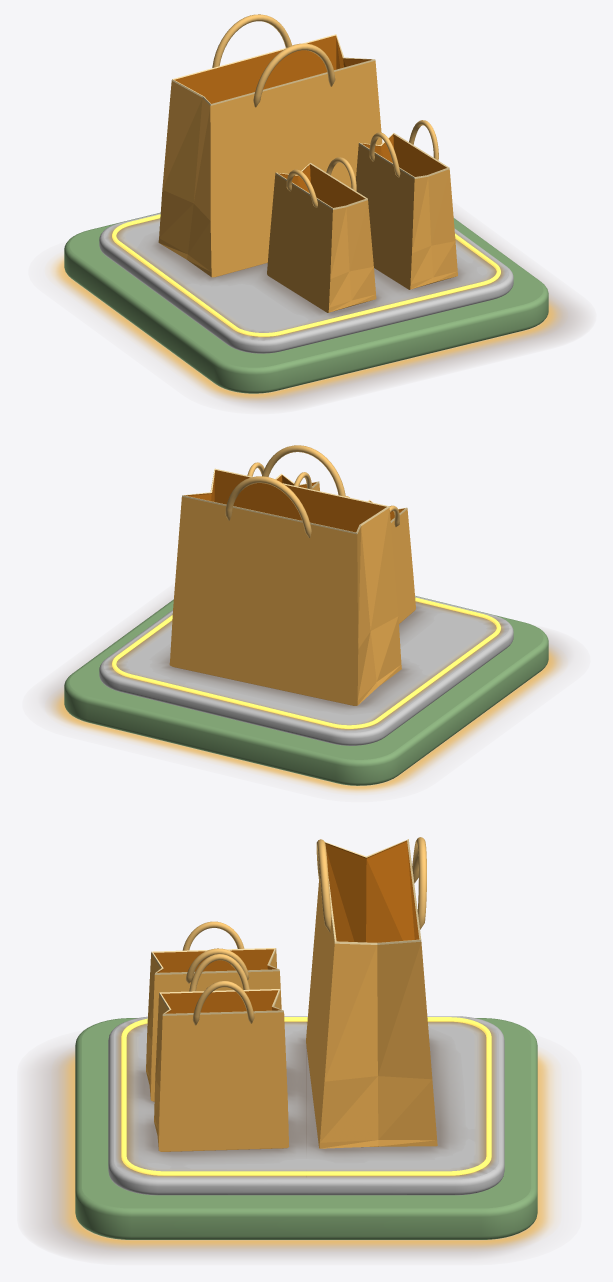
Rendered from bags.glb.
The picture shows the model from 3 angles, top to bottom: view 1: azimuth 30°, elevation 25°; view 2: azimuth 150°, elevation 25°; view 3: azimuth 270°, elevation 25°; orthographic projection. The views are drawn at different scales.
Parts seen in each view (by area): view 1: Bag_Large, Plinth_Outer, Plinth_Inner, Bag_Small, Bag_Medium, Fx_ContactShadow, Fx_FloorGlow, Fx_AmbientOcclusion, GlowRing, Bag_Large_Handles, Fx_RingHalo, Bag_Medium_Handles (+1 smaller); view 2: Bag_Large, Plinth_Outer, Plinth_Inner, Fx_FloorGlow, Fx_AmbientOcclusion, GlowRing, Bag_Small, Bag_Large_Handles, Fx_RingHalo, Fx_ContactShadow; view 3: Bag_Large, Plinth_Inner, Plinth_Outer, Bag_Medium, Fx_ContactShadow, Fx_AmbientOcclusion, Fx_FloorGlow, Bag_Small, GlowRing, Fx_RingHalo, Bag_Large_Handles, Bag_Medium_Handles (+1 smaller).
Part boxes in pixels (x1,y1,x2,y2): Bag_Large: [158, 34, 382, 277]; Plinth_Outer: [64, 212, 548, 393]; Plinth_Inner: [99, 213, 513, 353]; Bag_Small: [267, 163, 376, 312]; Bag_Medium: [356, 133, 457, 289]; Fx_ContactShadow: [74, 215, 585, 407]; Fx_FloorGlow: [52, 255, 560, 399]; Fx_AmbientOcclusion: [108, 218, 504, 338]; GlowRing: [112, 214, 500, 336]; Bag_Large_Handles: [212, 14, 335, 107]; Fx_RingHalo: [109, 218, 503, 337]; Bag_Medium_Handles: [369, 120, 438, 177]; Bag_Large: [169, 468, 401, 705]; Plinth_Outer: [64, 595, 548, 785]; Plinth_Inner: [99, 596, 513, 745]; Fx_FloorGlow: [52, 648, 560, 792]; Fx_AmbientOcclusion: [106, 601, 505, 730]; GlowRing: [112, 597, 500, 728]; Bag_Small: [368, 500, 415, 623]; Bag_Large_Handles: [225, 445, 345, 537]; Fx_RingHalo: [109, 602, 503, 729]; Fx_ContactShadow: [42, 596, 568, 777]; Bag_Large: [306, 839, 437, 1148]; Plinth_Inner: [108, 1016, 504, 1195]; Plinth_Outer: [75, 1018, 537, 1239]; Bag_Medium: [154, 989, 289, 1151]; Fx_ContactShadow: [31, 1045, 533, 1257]; Fx_AmbientOcclusion: [117, 1019, 494, 1177]; Fx_FloorGlow: [60, 1052, 552, 1247]; Bag_Small: [146, 948, 281, 1101]; GlowRing: [121, 1017, 491, 1175]; Fx_RingHalo: [118, 1022, 494, 1176]; Bag_Large_Handles: [316, 837, 426, 932]; Bag_Medium_Handles: [189, 954, 254, 1025].
Size of the model in its own units: 5.82 by 3.27 by 5.82.
